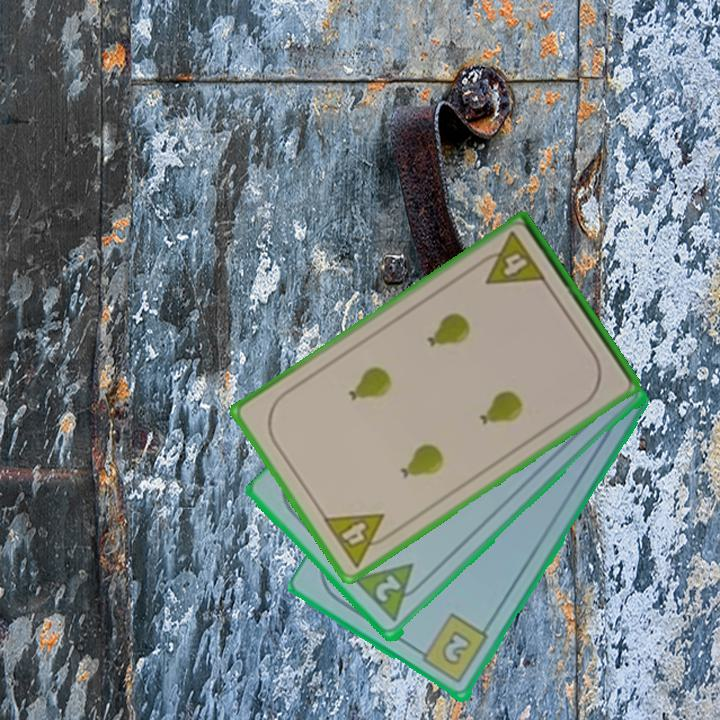2b: (412, 611, 491, 687)
2p: (371, 571, 405, 606)
4p: (319, 510, 398, 571), (472, 228, 549, 289)
